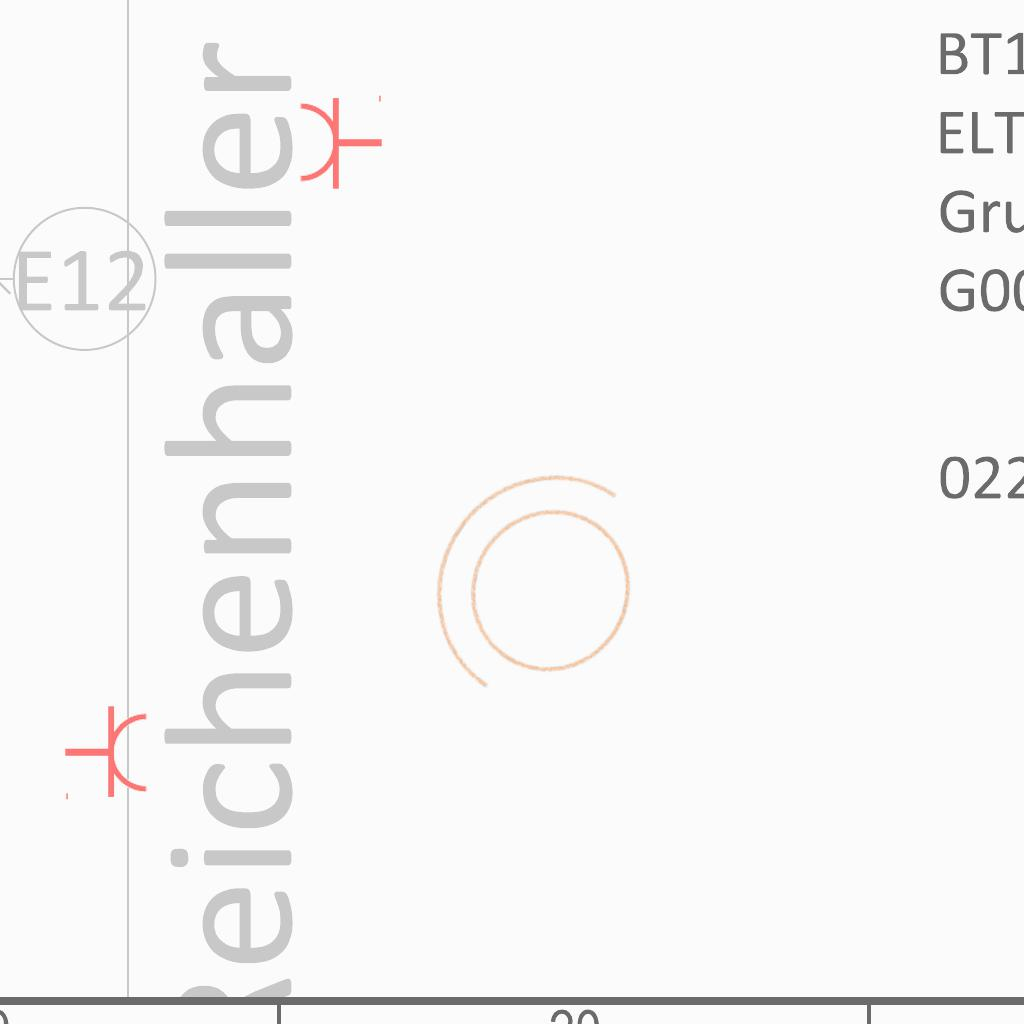Scheinwerfer_fuer_Alarmbeleuchtung: (371, 418, 707, 763)
Schukosteckdose_einfach: (63, 704, 150, 804), (297, 91, 384, 191)
